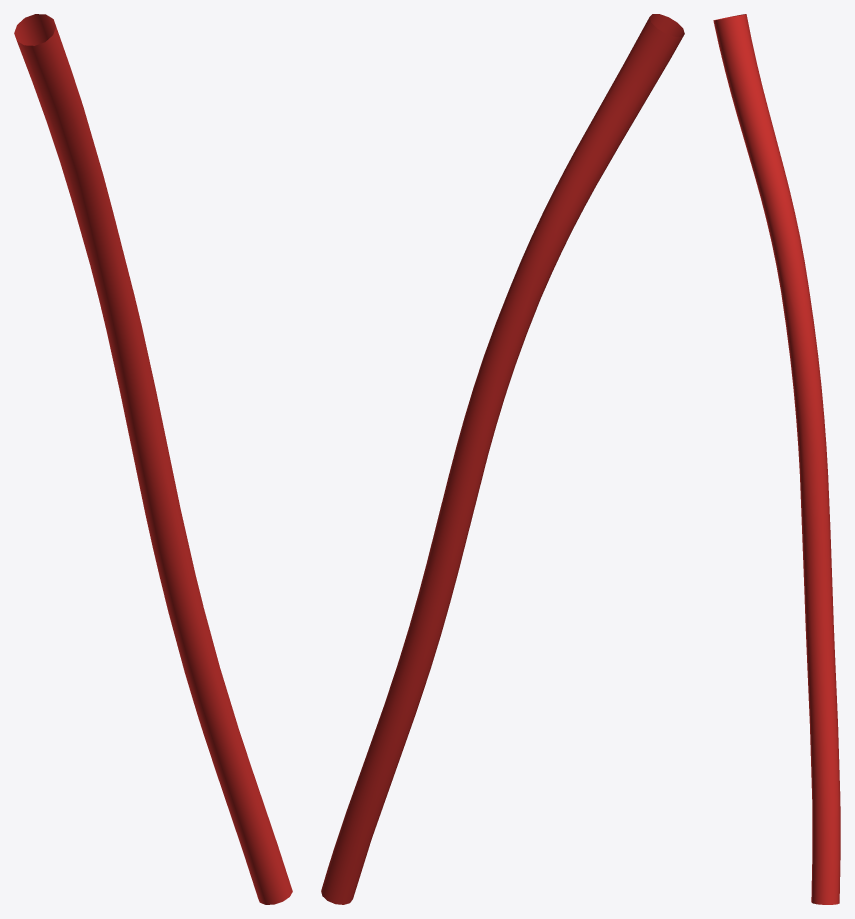
File: circulatorio-middle-collateral-artery-l.glb
3 views of the same model, side by side, from view 1: azimuth 30°, elevation 25°; view 2: azimuth 150°, elevation 25°; view 3: azimuth 270°, elevation 25° (orthographic). The views are drawn at different scales.
Parts seen in each view (by area): view 1: Middle collateral artery.l; view 2: Middle collateral artery.l; view 3: Middle collateral artery.l.
Boxes of the visible parts, <box> form: Middle collateral artery.l: <box>14,14,292,904</box>; Middle collateral artery.l: <box>321,14,684,904</box>; Middle collateral artery.l: <box>713,14,840,904</box>.
Size of the model in its own units: 0.0266 by 0.076 by 0.0112.
